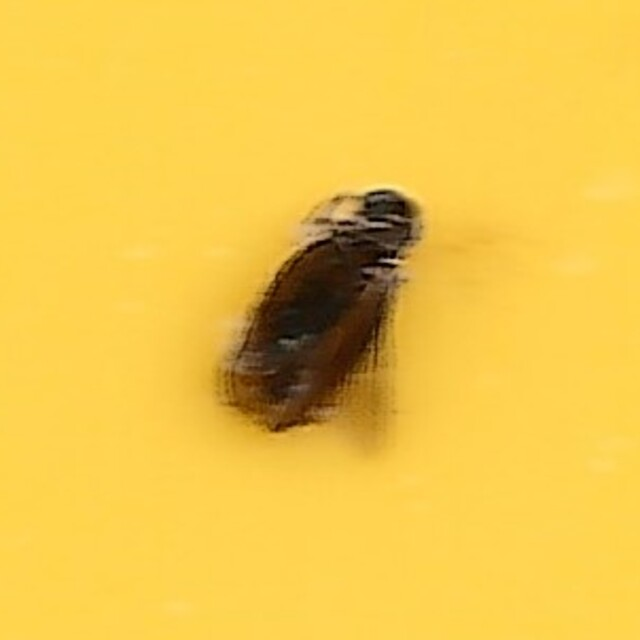Hemiptera: (212, 185, 428, 455)
